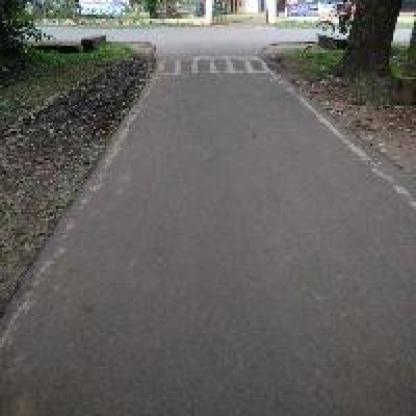Speed Bump: (154, 50, 272, 77)
